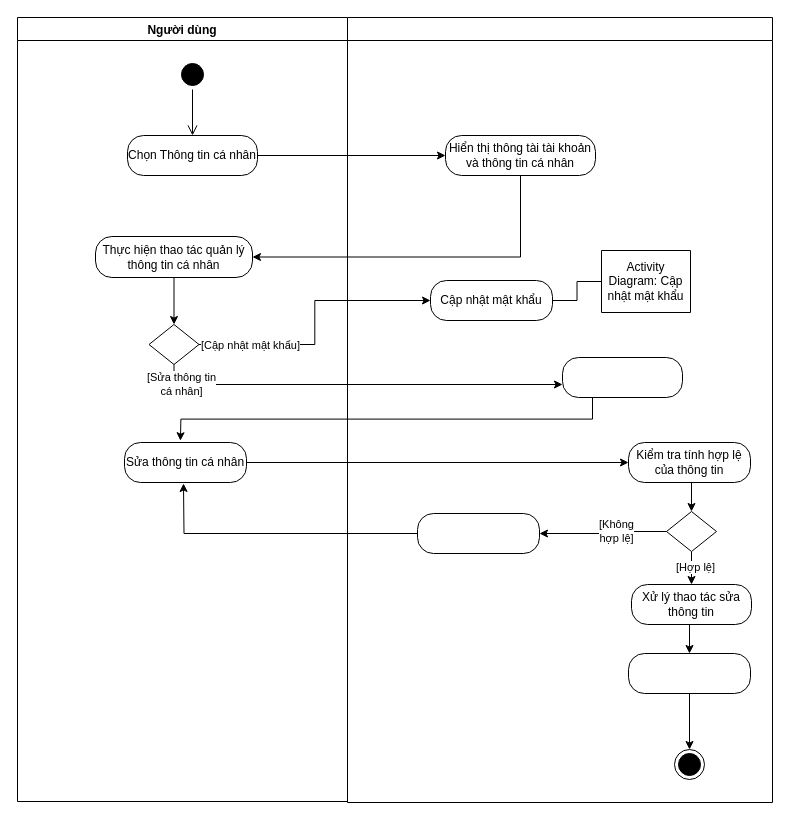
This 790x820 diagram has some shape labels left out. The shapes that lost their labels are listed below. From the top down, each one's box as (x1, y1, x2, y2) in pixels, then its label:
(562, 356, 682, 398): Hiển thị biểu mẫu sửa thông tin cá nhân
(346, 16, 772, 802): Hệ thống
(416, 512, 540, 554): Thông báo xác nhận cảnh báo thất bại
(628, 652, 750, 694): Thông báo thành công
